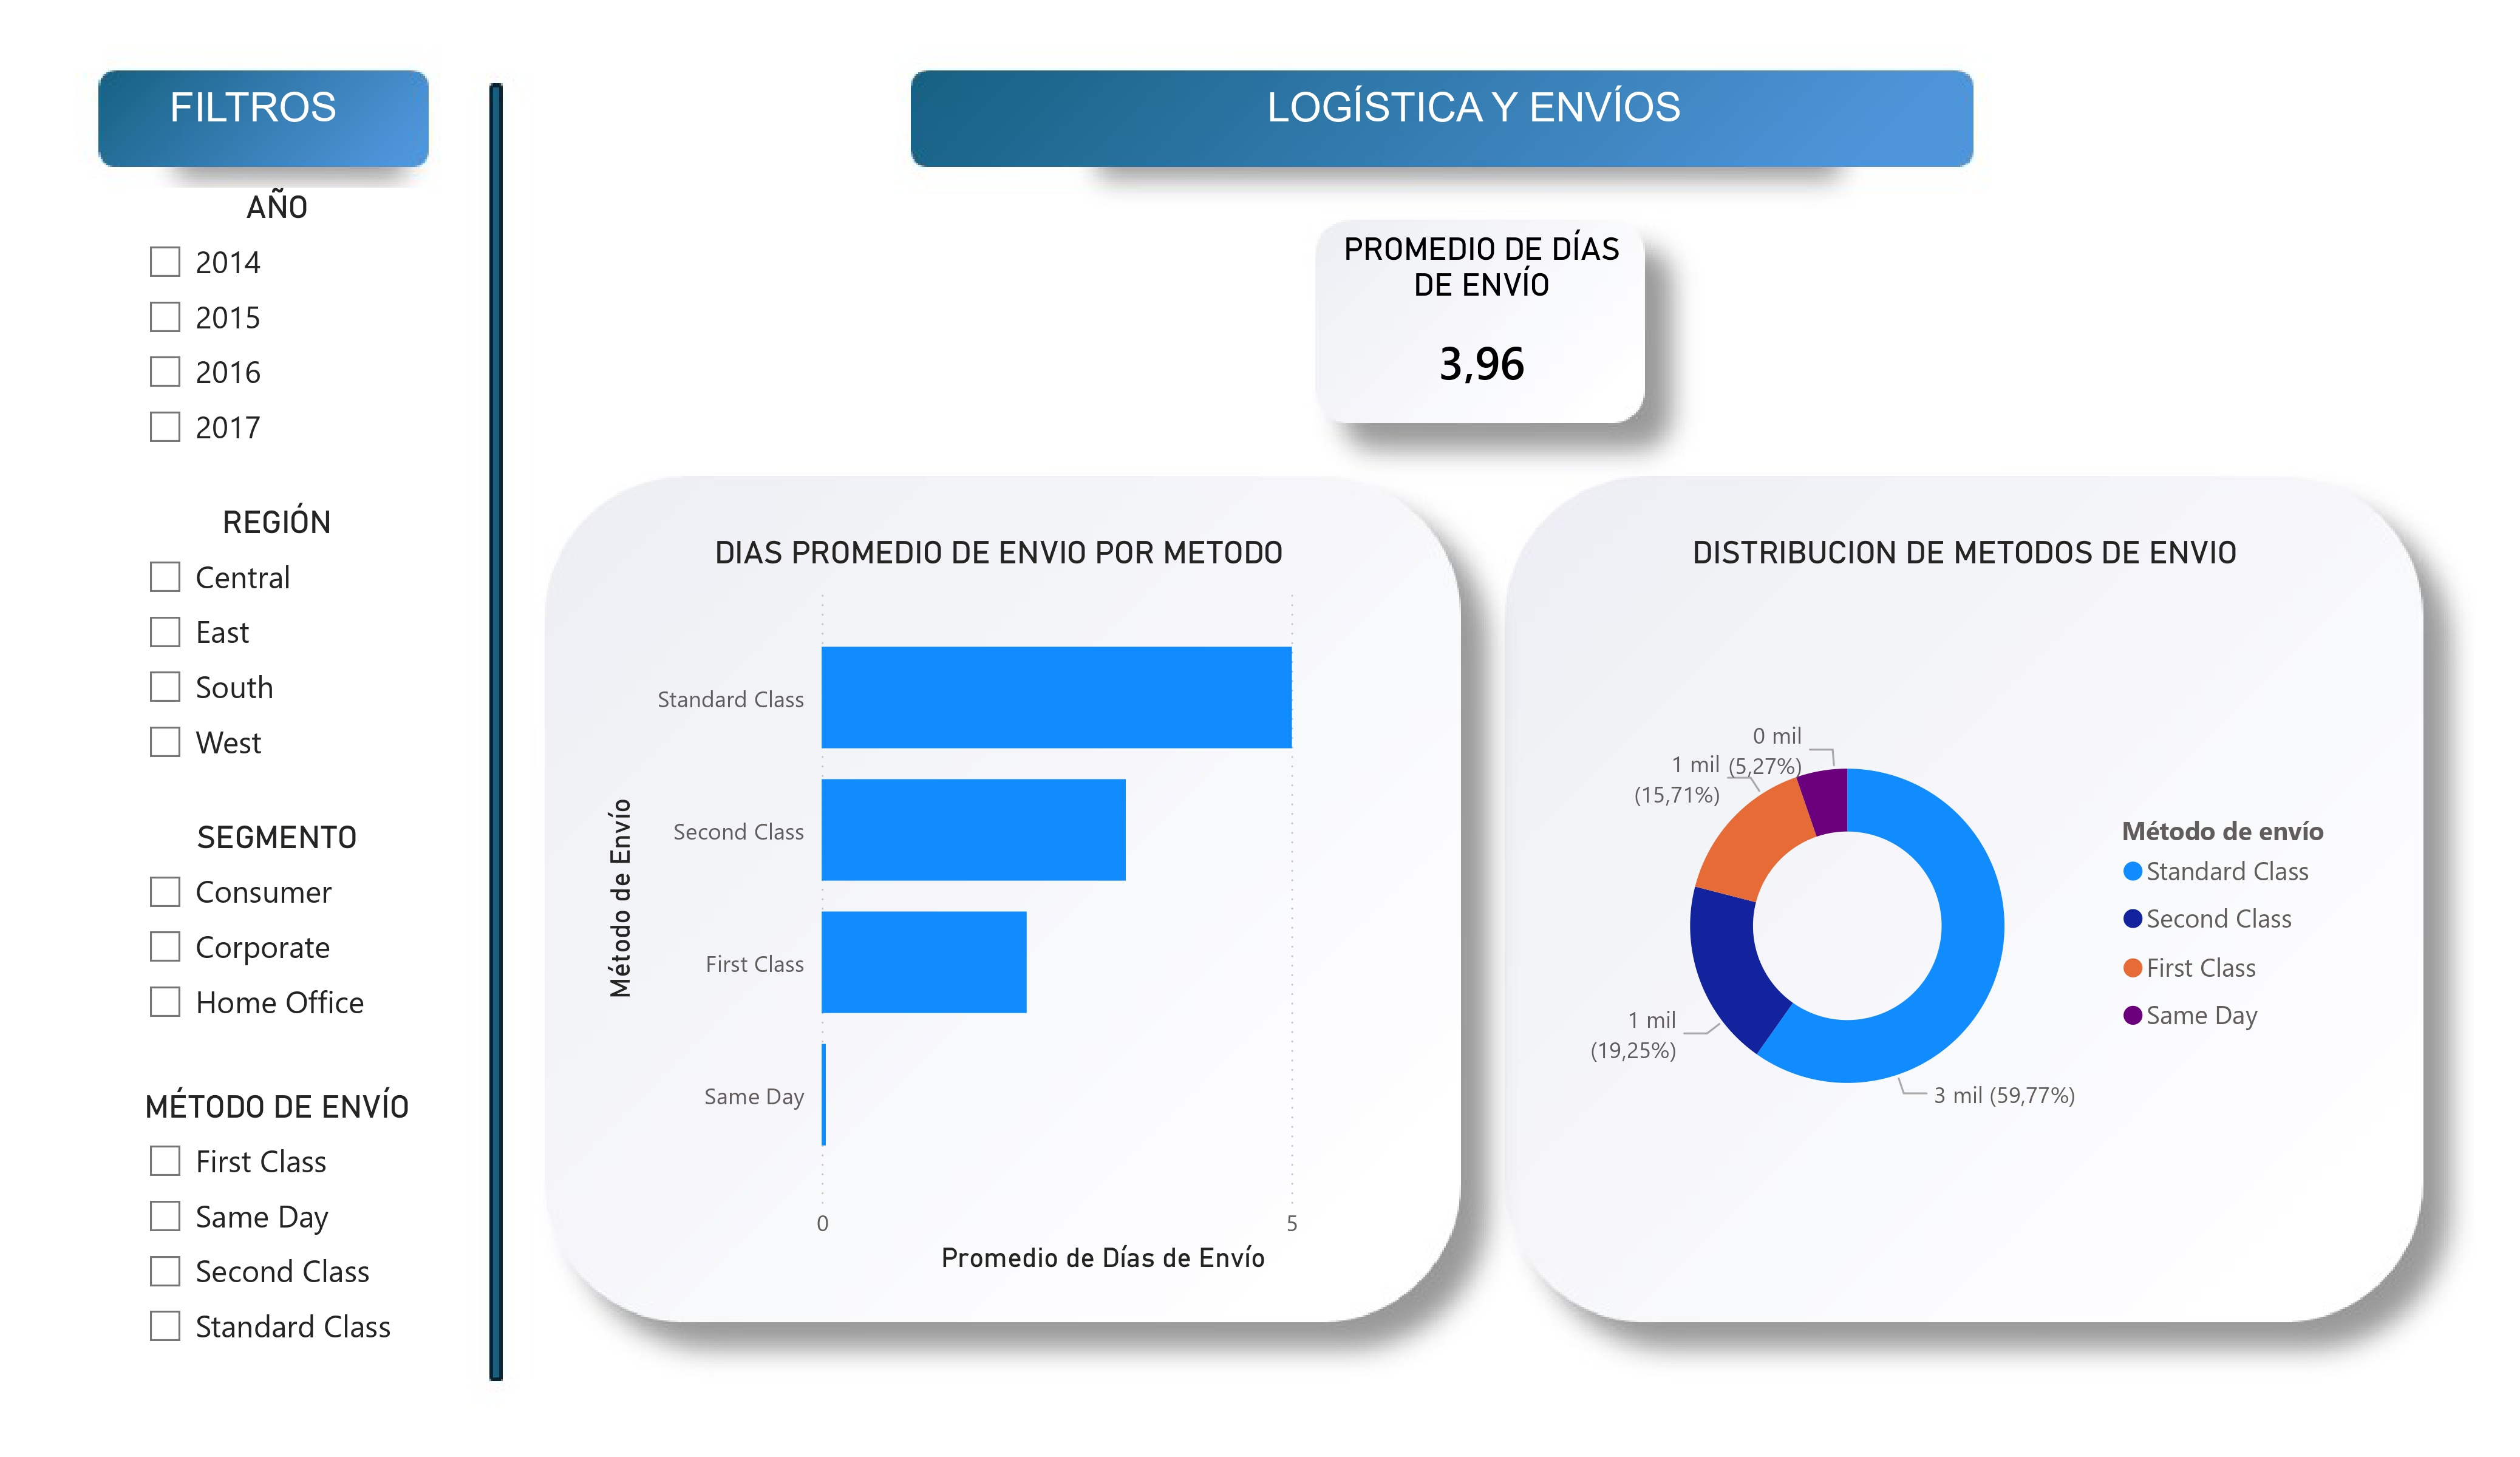

Layout of this report page (visuals, bound fields, positions):
{"tool":"powerbi","page":{"name":"LOGISTICA","canvas":[1280,720],"ordinal":3},"visuals":[{"type":"clusteredBarChart","title":"DIAS PROMEDIO DE ENVIO POR METODO","fields":{"Category":["superstore.Ship Mode"],"Y":["Medidas.Avg Shipping Days"]},"box":[289.8,256.8,425,394.9],"z":0},{"type":"donutChart","title":"DISTRIBUCION DE METODOS DE ENVIO","fields":{"Category":["superstore.Ship Mode"],"Y":["Medidas.Total Orders"]},"box":[799.5,256.8,423.1,394.9],"z":1000},{"type":"cardVisual","title":"PROMEDIO DE DÍAS DE ENVÍO","fields":{"Data":["Medidas.Avg Shipping Days"]},"box":[673.1,97.3,168.3,97.3],"z":2000},{"type":"slicer","title":"REGIÓN","fields":{"Values":["superstore.Region"]},"box":[41.8,241.2,160.5,149.8],"z":3000},{"type":"slicer","title":"AÑO","fields":{"Values":["superstore.Order Date.Variación.Date Hierarchy.Year"]},"box":[41.8,74.9,160.5,149.8],"z":4000},{"type":"slicer","title":"SEGMENTO","fields":{"Values":["superstore.Segment"]},"box":[41.8,406.6,160.5,123.5],"z":5000},{"type":"textbox","box":[516.2,16.4,473.9,43.3],"z":6000},{"type":"textbox","box":[41.4,16.4,136.8,50.1],"z":7000},{"type":"slicer","title":"MÉTODO DE ENVÍO","fields":{"Values":["superstore.Ship Mode"]},"box":[41.8,548.6,160.5,156.6],"z":8000}]}

Visuals, with their boxes on the page's 1280x720 design canvas (x1, y1, x2, y2). These are canvas units, not pixel positions in the 2520x1457 screenshot, which may show the page scaled, cropped or inside an application window:
"DIAS PROMEDIO DE ENVIO POR METODO" clusteredBarChart: x1=290 y1=257 x2=715 y2=652
"DISTRIBUCION DE METODOS DE ENVIO" donutChart: x1=800 y1=257 x2=1223 y2=652
"PROMEDIO DE DÍAS DE ENVÍO" cardVisual: x1=673 y1=97 x2=841 y2=195
"REGIÓN" slicer: x1=42 y1=241 x2=202 y2=391
"AÑO" slicer: x1=42 y1=75 x2=202 y2=225
"SEGMENTO" slicer: x1=42 y1=407 x2=202 y2=530
textbox: x1=516 y1=16 x2=990 y2=60
textbox: x1=41 y1=16 x2=178 y2=66
"MÉTODO DE ENVÍO" slicer: x1=42 y1=549 x2=202 y2=705
